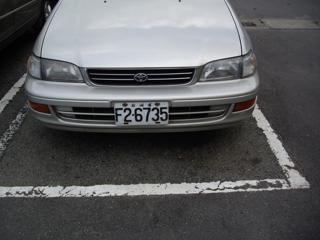plate: (112, 100, 170, 126)
